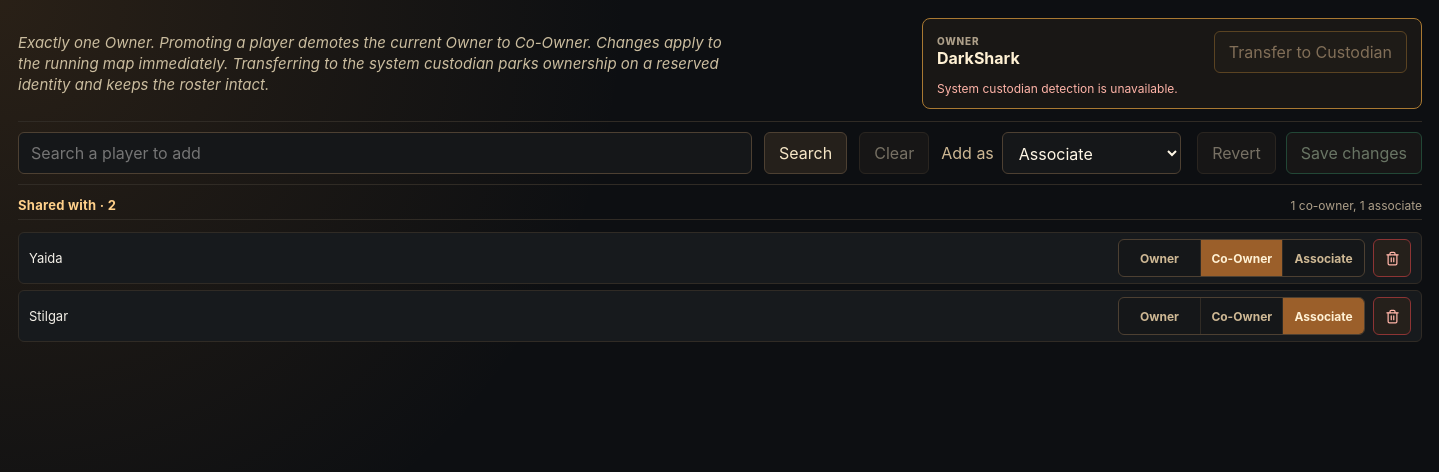
Test: VehiclePermissionsTab layout › clears the player search after adding a result
This screenshot has width=1439, height=472.
Step 1. Type "Chani" into the field with placeholder "Search a player to add" → (385, 153), box [18,132,752,174]
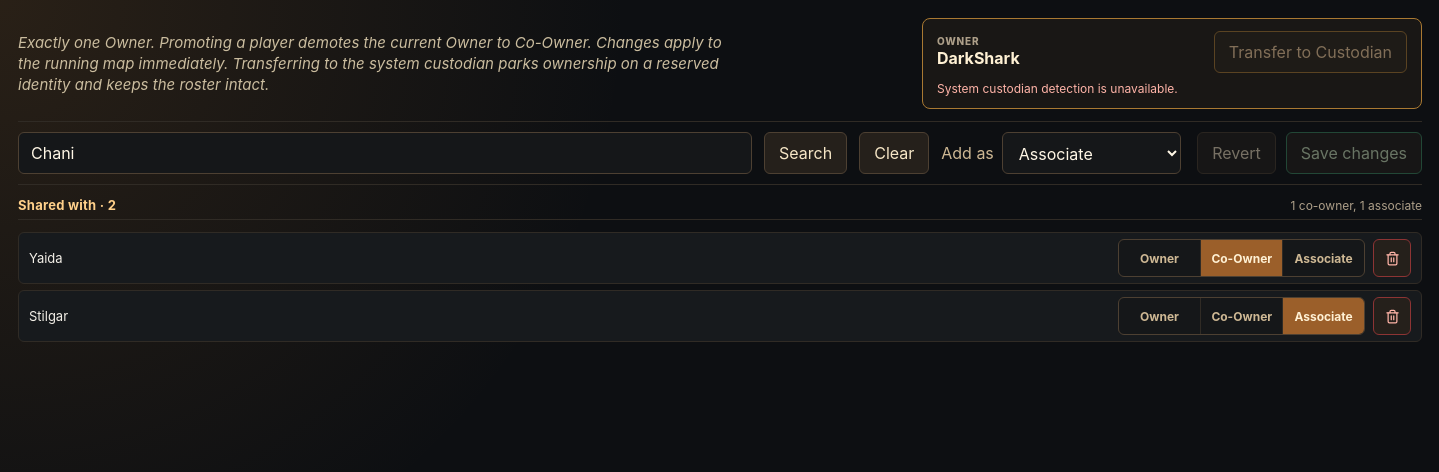
Step 2. Click the button "Search" → (806, 153), box [764,132,847,174]
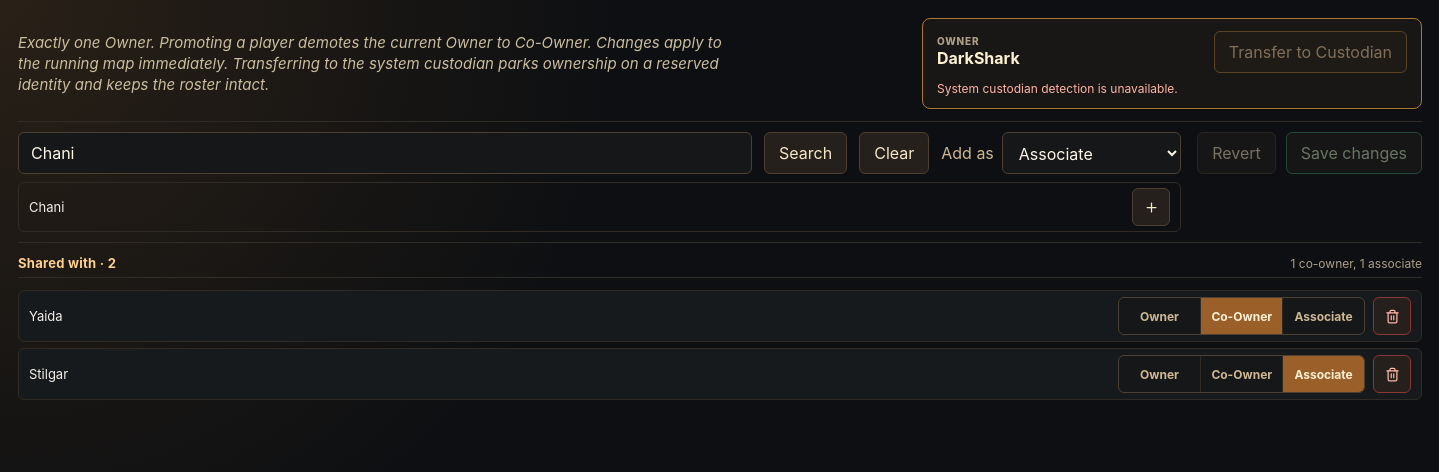
Step 3. Click the button named "Add Chani" → (1151, 207), box [1132,188,1170,226]
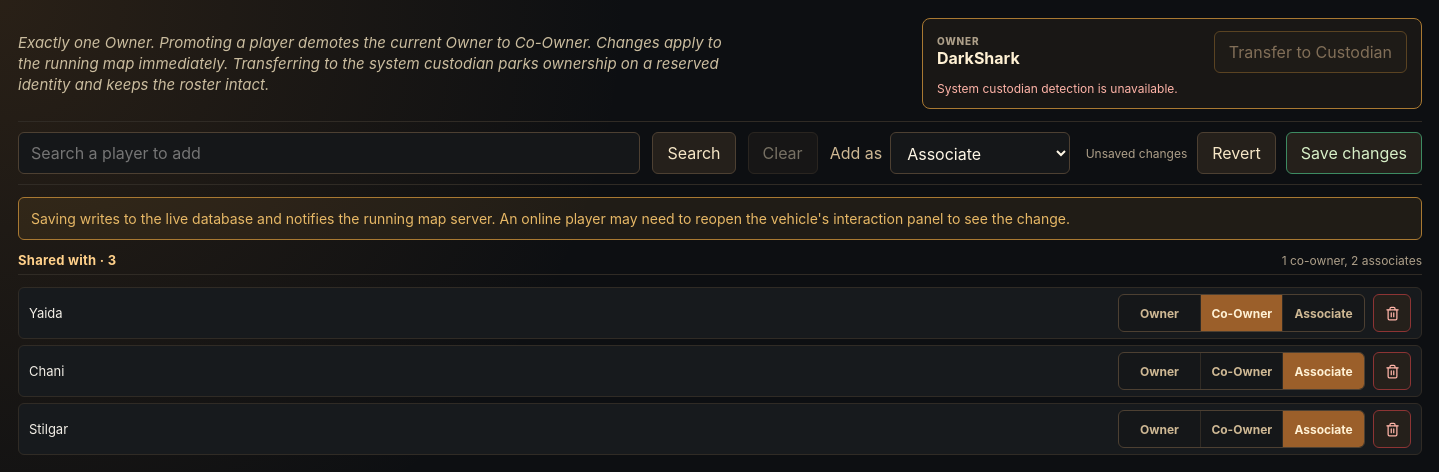
Expected: the field with placeholder "Search a player to add" is empty, [18,132,640,174]
Expected: the radio button with aria-label "Associate for Chani" is checked, [1282,353,1364,390]
